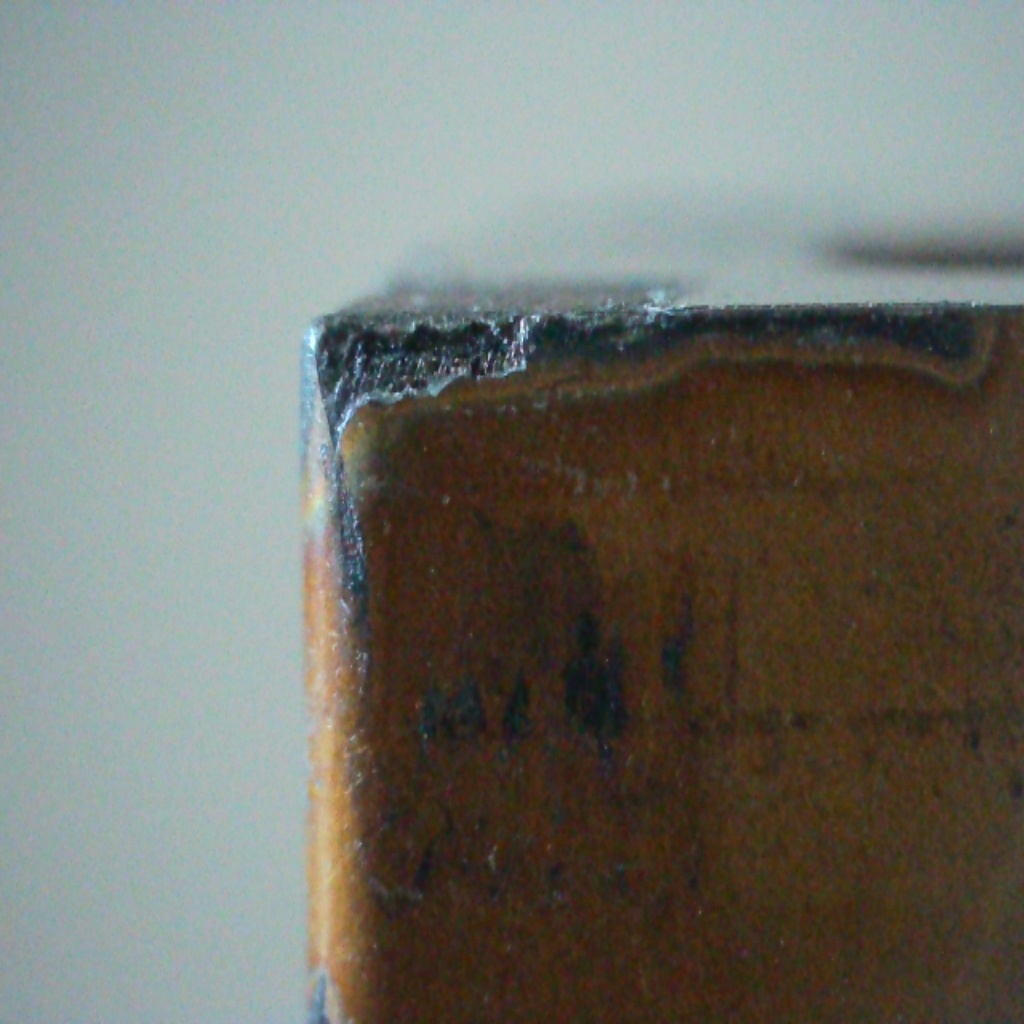flank_wear: (318, 309, 976, 436)
